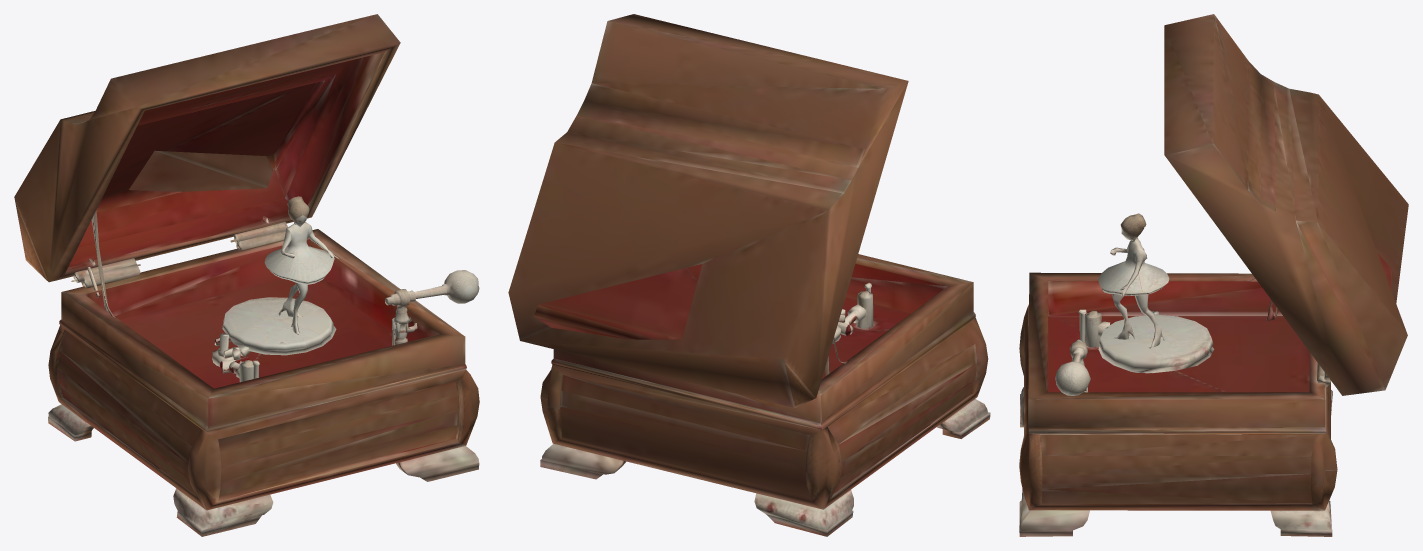
The model's file is music_box.glb.
3 renders of one model, left to right at view 1: azimuth 30°, elevation 25°; view 2: azimuth 150°, elevation 25°; view 3: azimuth 270°, elevation 25°, orthographic. The views are drawn at different scales.
Size of the model in its own units: 0.7881 by 0.9541 by 0.8648.
Materials: 1 (1 with a texture image).
